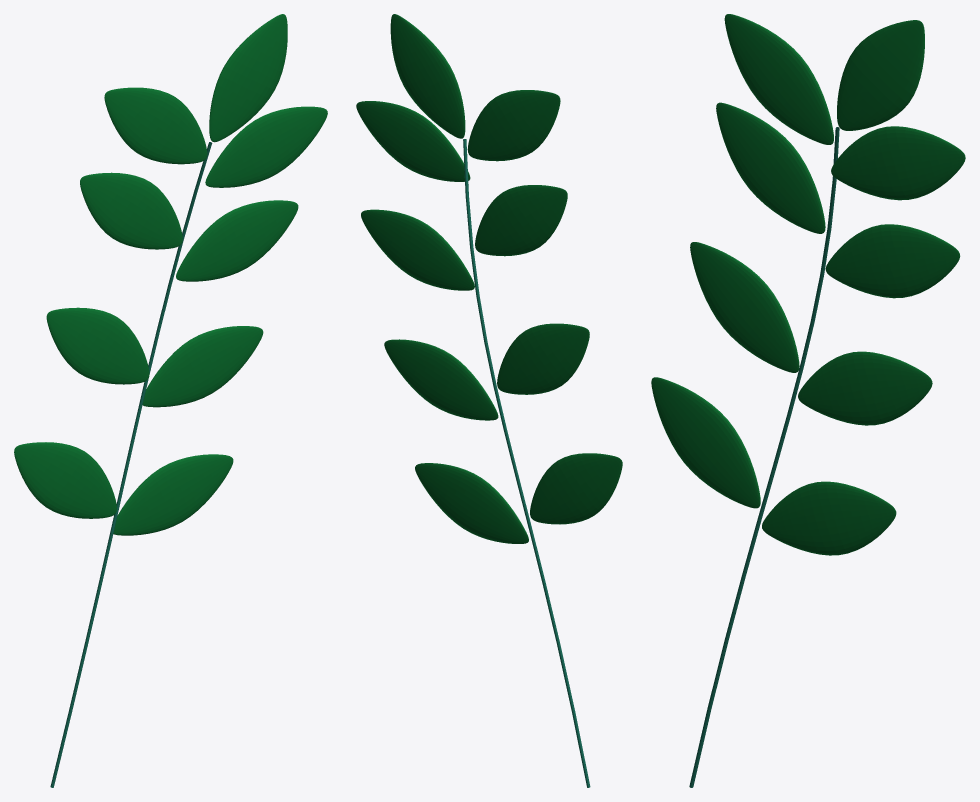
Rendered from grass.dae.
3 renders of one model, left to right at view 1: azimuth 30°, elevation 25°; view 2: azimuth 150°, elevation 25°; view 3: azimuth 330°, elevation 25°, orthographic. The views are drawn at different scales.
Visible parts, largest first — view 1: Cube.015, BezierCurve.001; view 2: Cube.015, BezierCurve.001; view 3: Cube.015, BezierCurve.001.
Part boxes in pixels (box(x1,y1,x2,y2)): Cube.015: box(14, 14, 327, 535); BezierCurve.001: box(50, 142, 212, 787); Cube.015: box(356, 14, 622, 543); BezierCurve.001: box(463, 139, 590, 787); Cube.015: box(651, 14, 965, 555); BezierCurve.001: box(689, 127, 839, 787).
Bounding box in the file's own units: 0.5558 × 0.0757 × 1.32.
